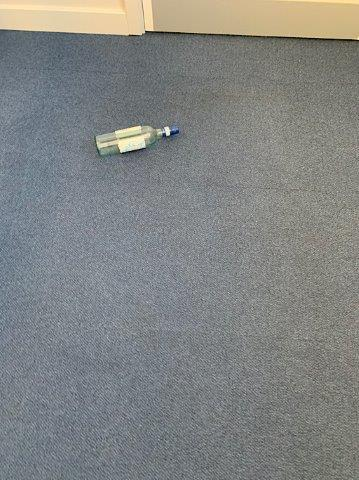botolkaca: (95, 125, 179, 155)
